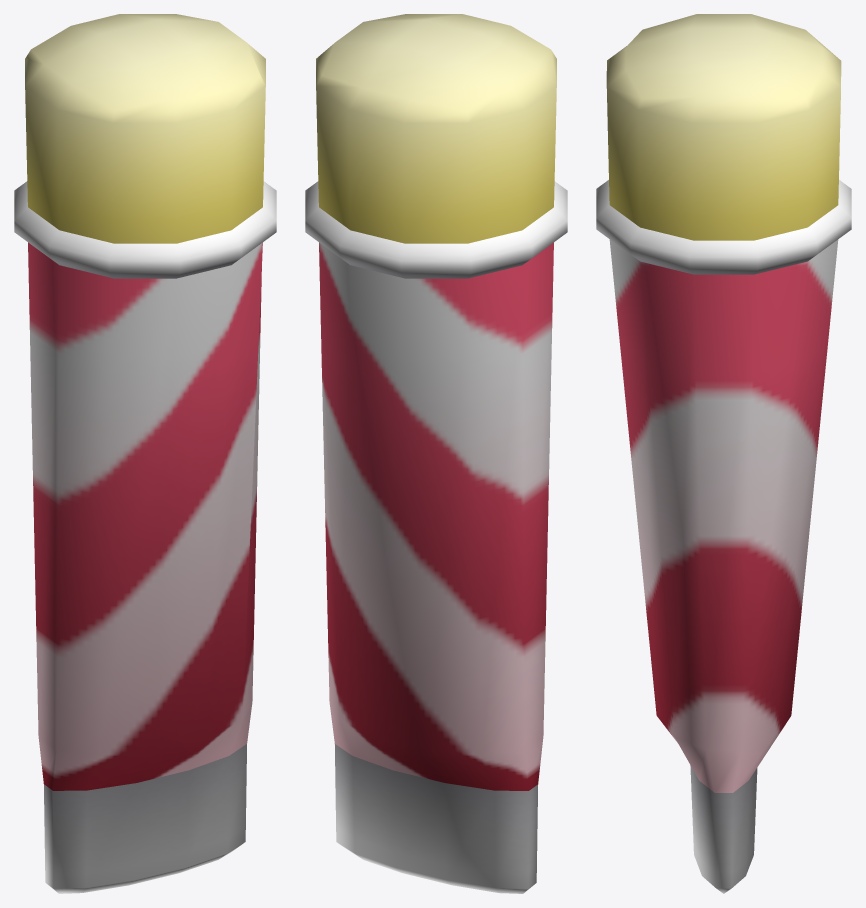
The model's file is m_PushPop02.fbx.
3 renders of one model, left to right at view 1: azimuth 30°, elevation 25°; view 2: azimuth 150°, elevation 25°; view 3: azimuth 270°, elevation 25°, orthographic. The views are drawn at different scales.
Visible parts, largest first — view 1: m_PushPop02; view 2: m_PushPop02; view 3: m_PushPop02.
Part boxes in pixels (x1,y1,x2,y2): m_PushPop02: (14,14,276,893); m_PushPop02: (305,14,567,893); m_PushPop02: (596,14,851,893).
Bounding box in the file's own units: 6.5 × 22.79 × 6.5.
